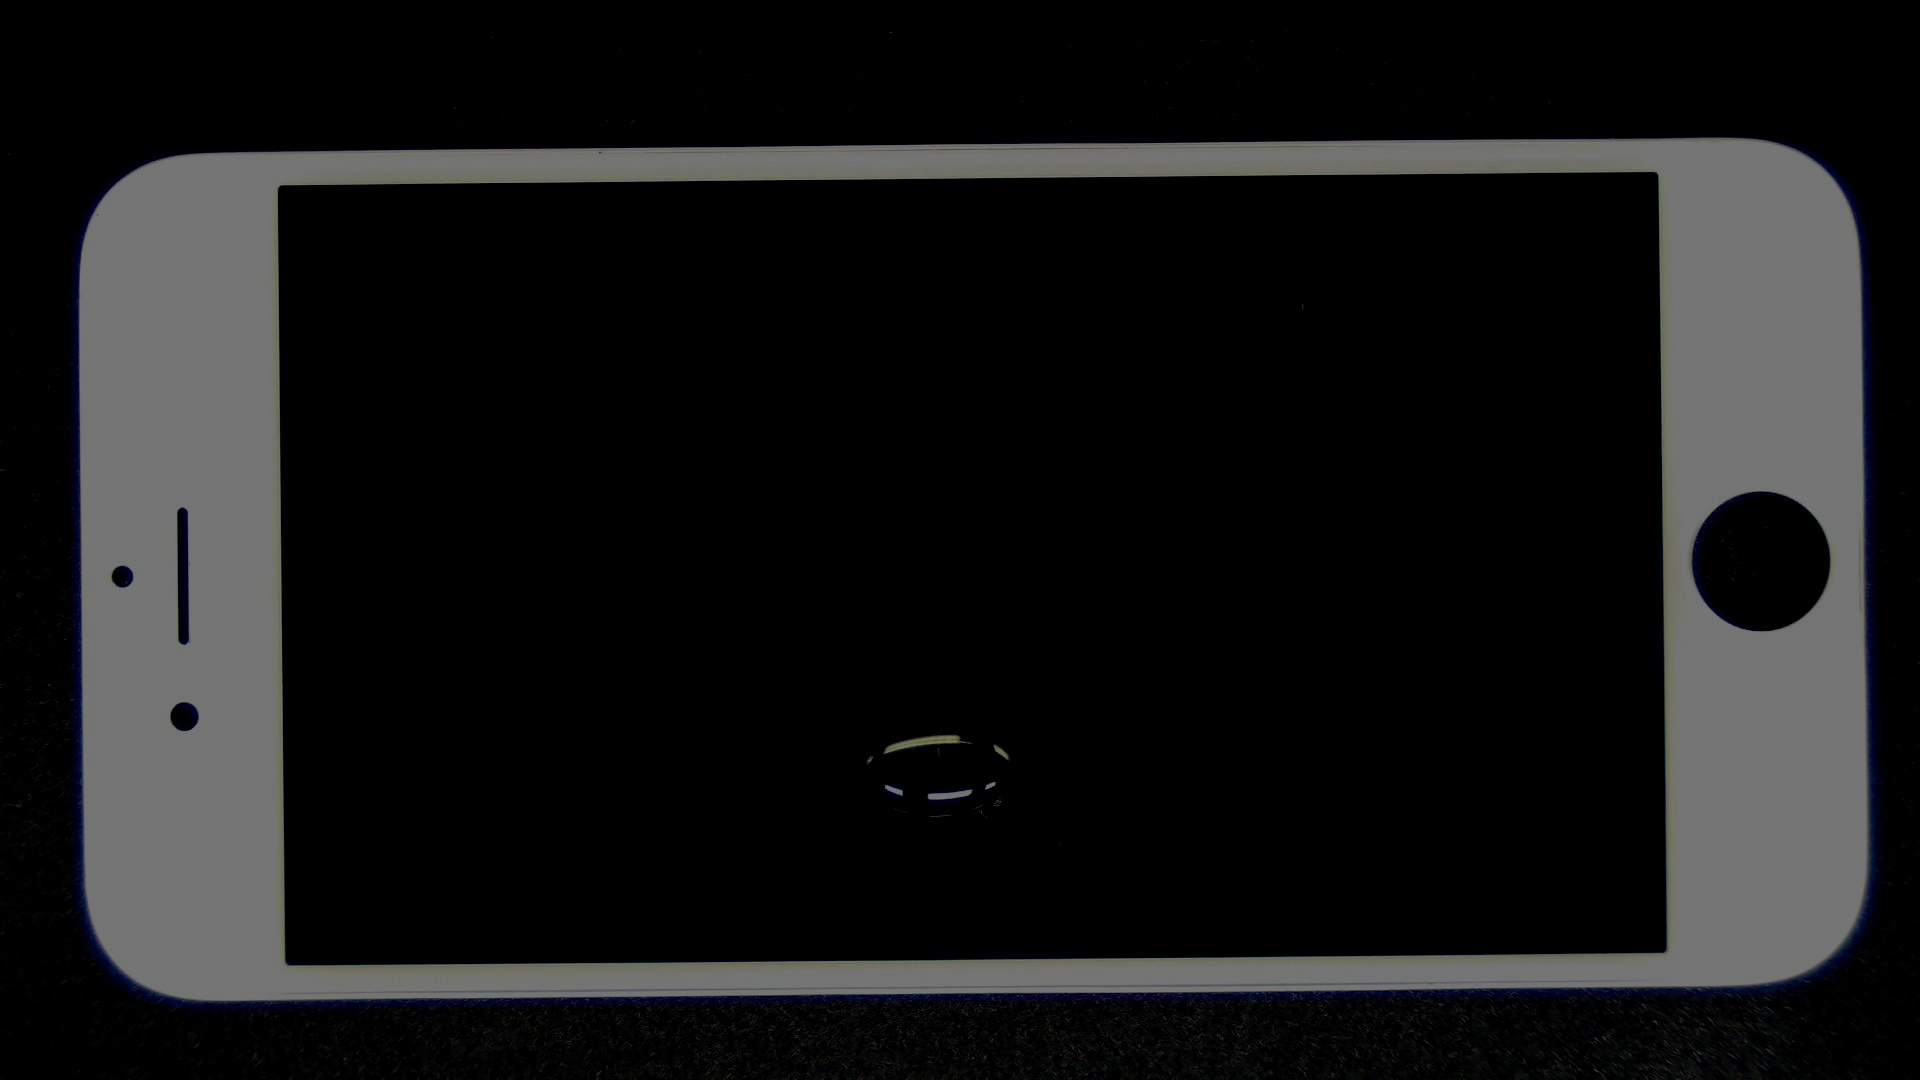oil: (468, 357, 1403, 1073)
